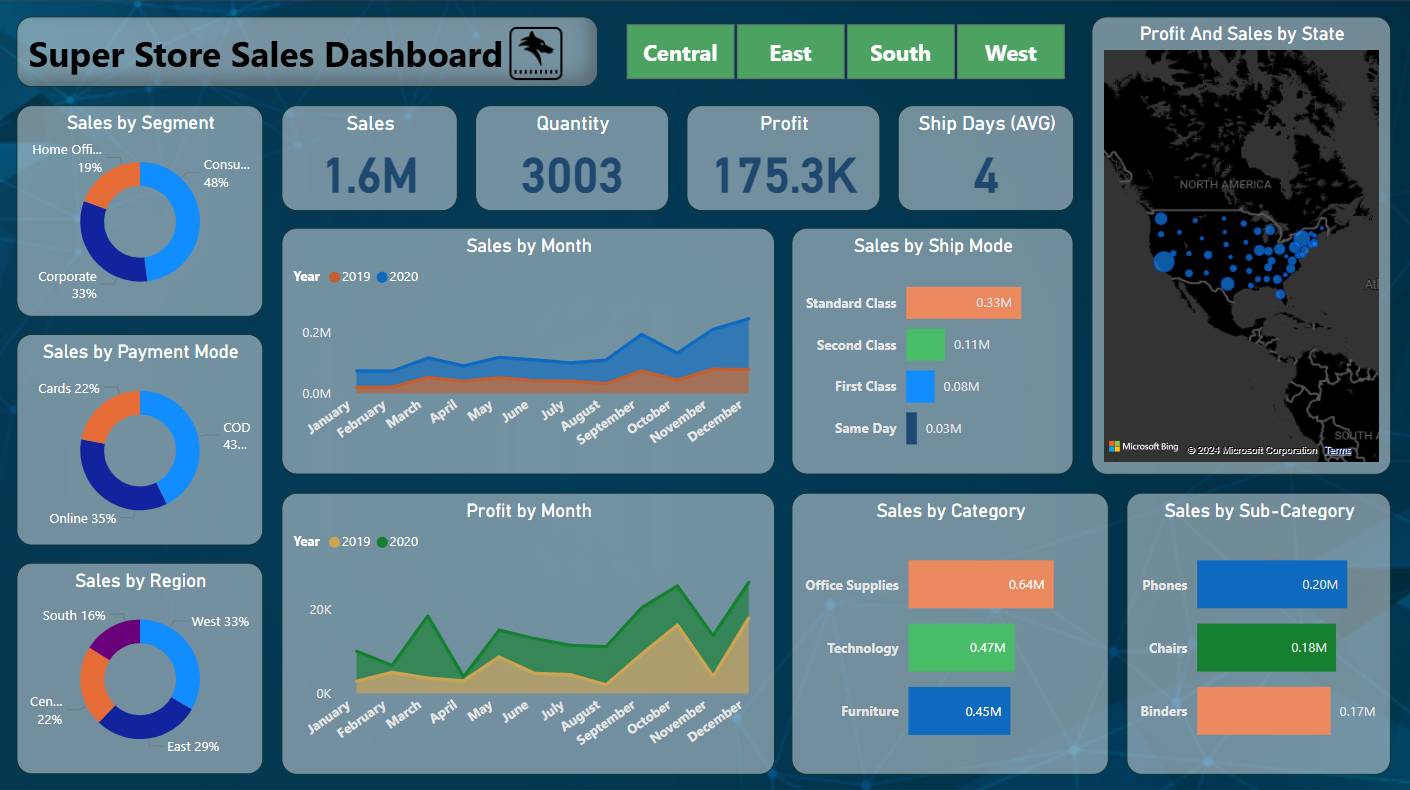

The page's visual inventory and layout, read from the dashboard file:
{"tool":"powerbi","page":{"name":"Page 3","canvas":[1280,720],"ordinal":2},"visuals":[{"type":"clusteredBarChart","title":"Sales by Category","fields":{"Category":["SuperStore_Sales_Dataset.Category"],"Y":["Sum(SuperStore_Sales_Dataset.Sales)"]},"box":[720,448,288,256],"z":0},{"type":"clusteredBarChart","title":"Sales by Sub-Category","fields":{"Y":["Sum(SuperStore_Sales_Dataset.Sales)"],"Category":["SuperStore_Sales_Dataset.Sub-Category"]},"box":[1024,448,240,256],"z":1},{"type":"clusteredBarChart","title":"Sales by Ship Mode","fields":{"Y":["Sum(SuperStore_Sales_Dataset.Sales)"],"Category":["SuperStore_Sales_Dataset.Ship Mode"]},"box":[720,208,256,224],"z":2},{"type":"stackedAreaChart","title":"Sales by Month","fields":{"Y":["Sum(SuperStore_Sales_Dataset.Sales)"],"Series":["SuperStore_Sales_Dataset.Order Date.Variation.Date Hierarchy.Year"],"Category":["SuperStore_Sales_Dataset.Order Date.Variation.Date Hierarchy.Month","SuperStore_Sales_Dataset.Order Date.Variation.Date Hierarchy.Day"]},"box":[256,208,448,224],"z":3},{"type":"stackedAreaChart","title":"Profit by Month","fields":{"Series":["SuperStore_Sales_Dataset.Order Date.Variation.Date Hierarchy.Year"],"Category":["SuperStore_Sales_Dataset.Order Date.Variation.Date Hierarchy.Month","SuperStore_Sales_Dataset.Order Date.Variation.Date Hierarchy.Day"],"Y":["Sum(SuperStore_Sales_Dataset.Profit)"]},"box":[256,448,448,256],"z":4},{"type":"map","title":"Profit And Sales by State","fields":{"Category":["SuperStore_Sales_Dataset.State"],"Size":["Sum(SuperStore_Sales_Dataset.Sales)"]},"box":[992,16,272,416],"z":5},{"type":"donutChart","title":"Sales by Segment","fields":{"Category":["SuperStore_Sales_Dataset.Segment"],"Y":["Sum(SuperStore_Sales_Dataset.Sales)"]},"box":[16,96,224,192],"z":6},{"type":"donutChart","title":"Sales by Payment Mode","fields":{"Y":["Sum(SuperStore_Sales_Dataset.Sales)"],"Category":["SuperStore_Sales_Dataset.Payment Mode"]},"box":[16,304,224,192],"z":7},{"type":"slicer","fields":{"Values":["SuperStore_Sales_Dataset.Region"]},"box":[544,16,448,64],"z":8},{"type":"textbox","box":[16,16,528,64],"z":9},{"type":"card","title":"Sales","fields":{"Values":["Sum(SuperStore_Sales_Dataset.Sales)"]},"box":[256,96,160,96],"z":10},{"type":"card","title":"Quantity","fields":{"Values":["Count(SuperStore_Sales_Dataset.Order ID)"]},"box":[432,96,176,96],"z":11},{"type":"card","title":"Ship Days (AVG)","fields":{"Values":["Avg(SuperStore_Sales_Dataset.AvgDelivery)"]},"box":[816,96,160,96],"z":12},{"type":"card","title":"Profit","fields":{"Values":["Sum(SuperStore_Sales_Dataset.Profit)"]},"box":[624,96,176,96],"z":13},{"type":"donutChart","title":"Sales by Region","fields":{"Y":["Sum(SuperStore_Sales_Dataset.Sales)"],"Category":["SuperStore_Sales_Dataset.Region"]},"box":[16,512,224,192],"z":14},{"type":"image","box":[448,16,80,64],"z":15}]}

Visuals, with their boxes in screenshot pixels (x1, y1, x2, y2), scaled from the page's 1280x720 canvas onto the 1410x790 screenshot:
"Sales by Category" clusteredBarChart: region(793, 492, 1110, 772)
"Sales by Sub-Category" clusteredBarChart: region(1128, 492, 1392, 772)
"Sales by Ship Mode" clusteredBarChart: region(793, 228, 1075, 474)
"Sales by Month" stackedAreaChart: region(282, 228, 776, 474)
"Profit by Month" stackedAreaChart: region(282, 492, 776, 772)
"Profit And Sales by State" map: region(1093, 18, 1392, 474)
"Sales by Segment" donutChart: region(18, 105, 264, 316)
"Sales by Payment Mode" donutChart: region(18, 334, 264, 544)
slicer - SuperStore_Sales_Dataset.Region: region(599, 18, 1093, 88)
textbox: region(18, 18, 599, 88)
"Sales" card: region(282, 105, 458, 211)
"Quantity" card: region(476, 105, 670, 211)
"Ship Days (AVG)" card: region(899, 105, 1075, 211)
"Profit" card: region(687, 105, 881, 211)
"Sales by Region" donutChart: region(18, 562, 264, 772)
image: region(494, 18, 582, 88)
